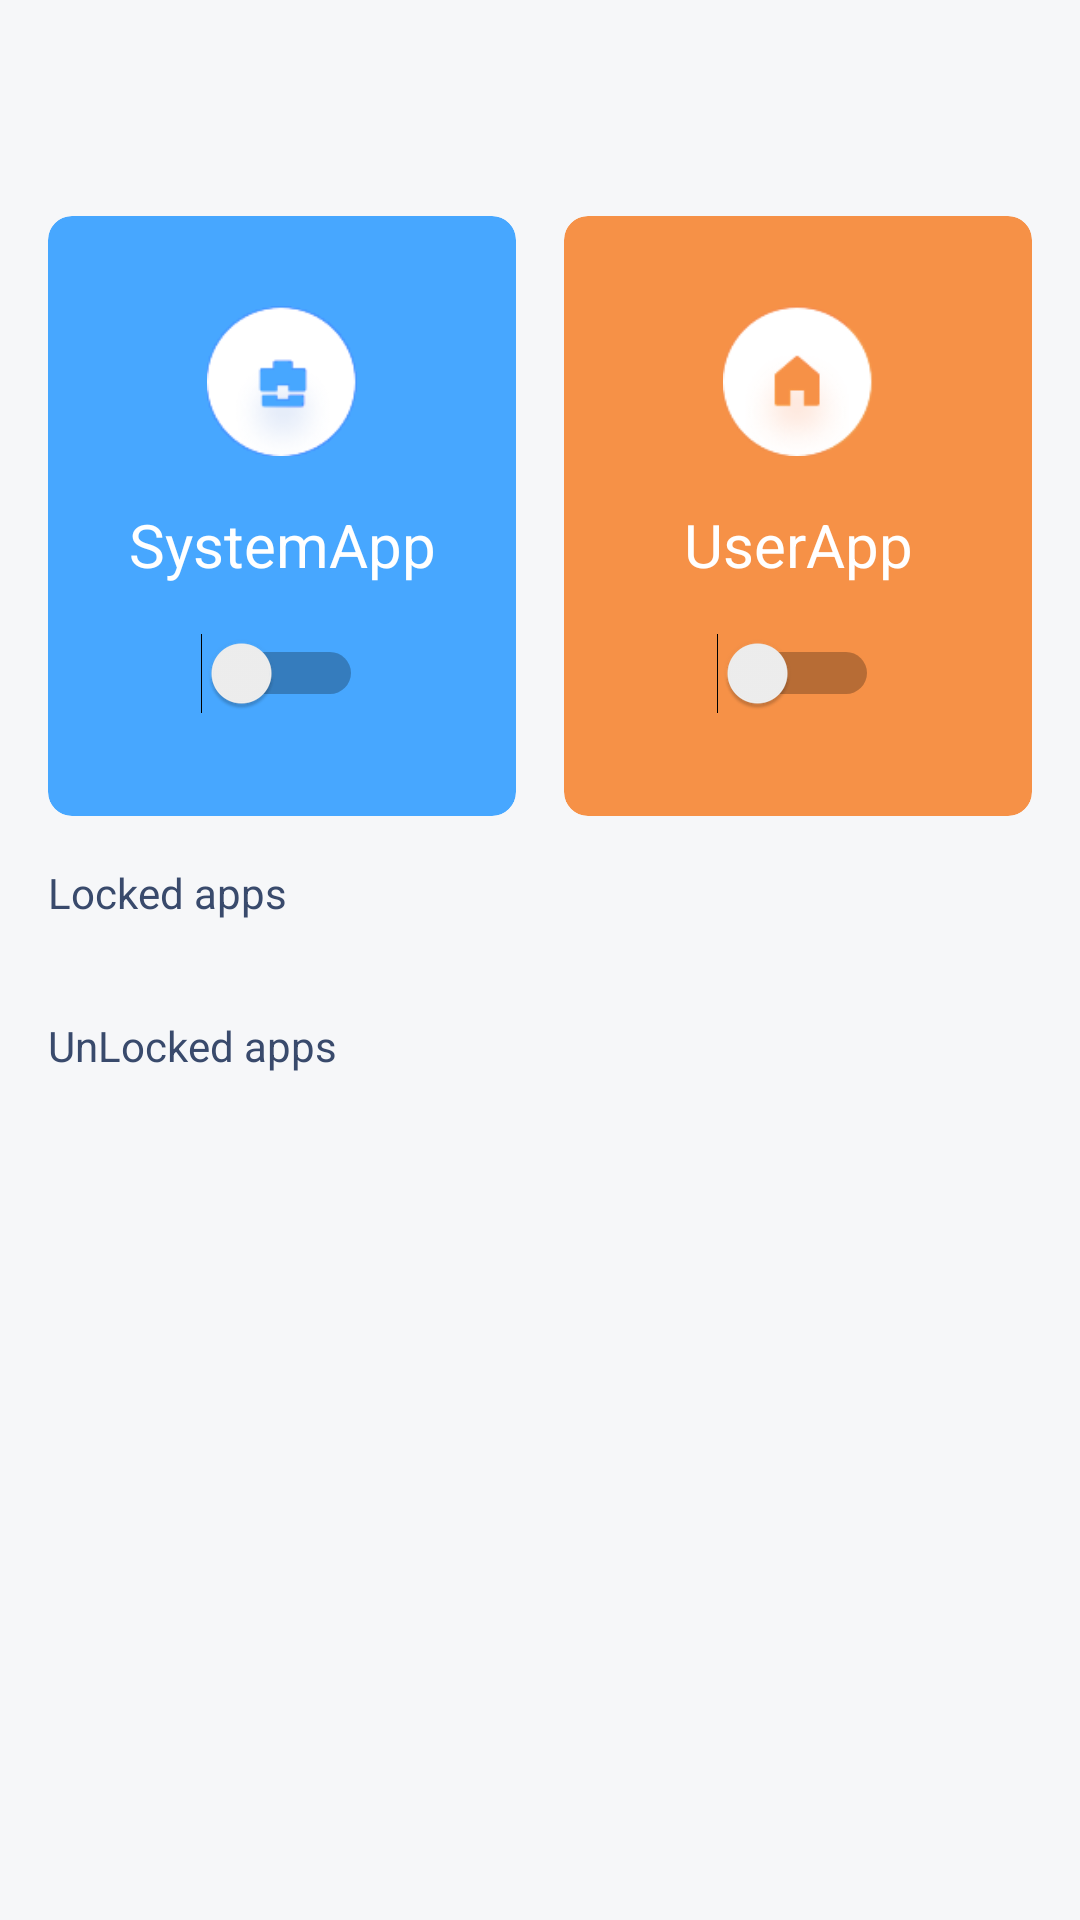

Named icons in this screenshot (1080w x 1920h) and their bounding boxes, BBox(x1, y1, x2, y2):
home user: BBox(723, 307, 872, 456)
